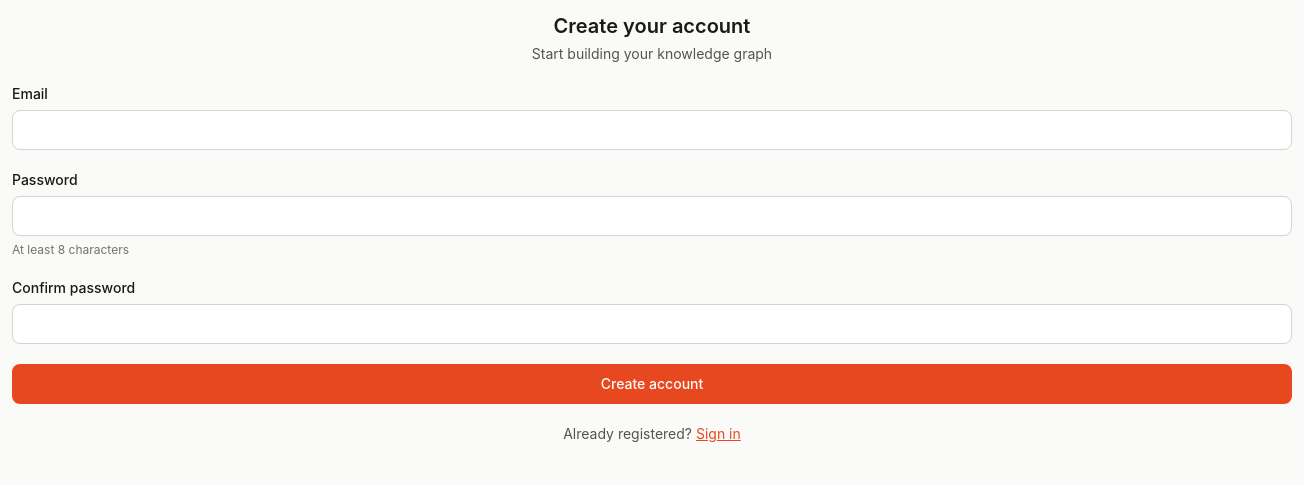
Test: RegisterForm › reports a duplicate email on the email field
Type "new@example.com" into the field labelled "Email" at (652, 130), box [12,110,1292,150]
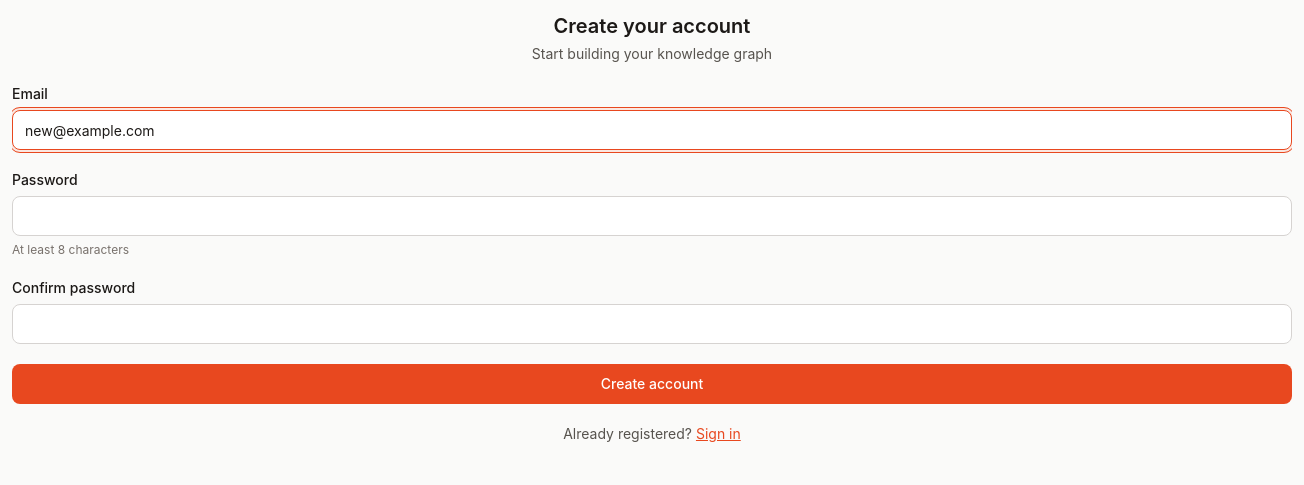
Type "long enough pw" into the password field labelled "Password" at (652, 216), box [12,196,1292,236]
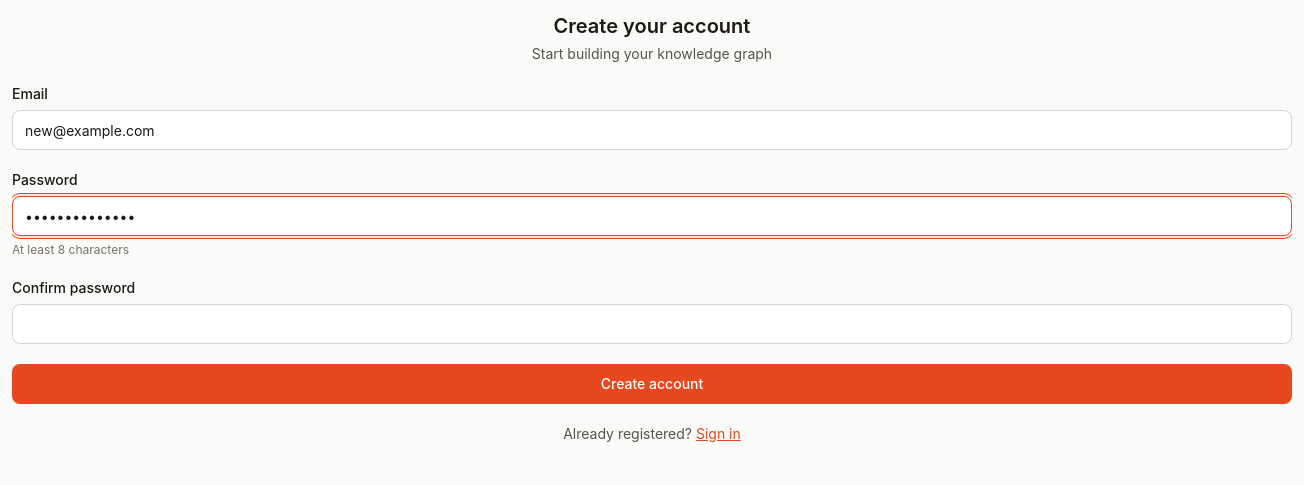
Type "long enough pw" into the password field labelled "Confirm password" at (652, 324), box [12,304,1292,344]
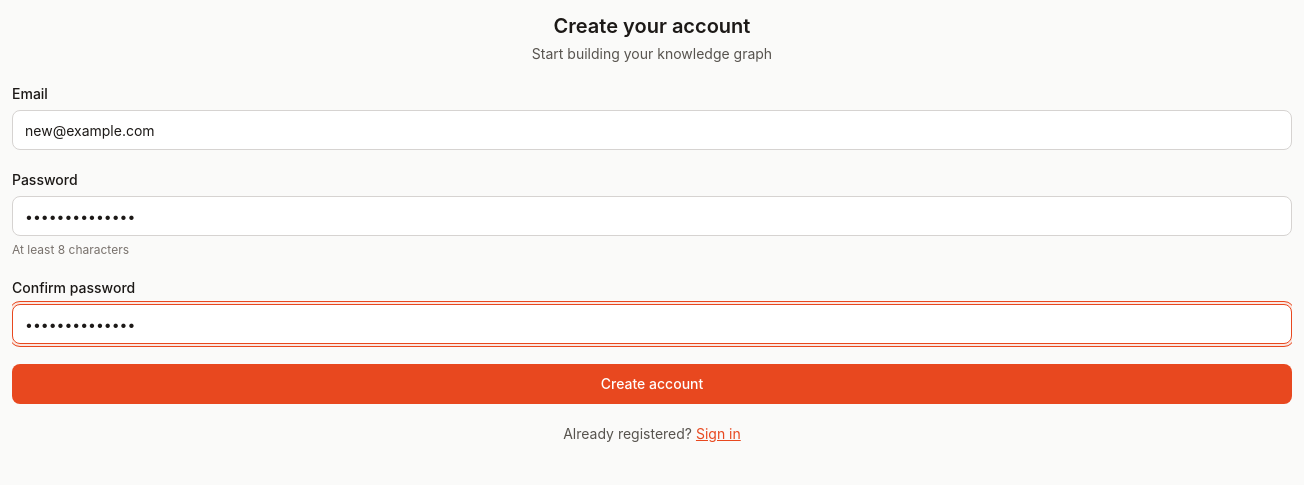
Click the button "Create account" at (652, 384), box [12,364,1292,404]
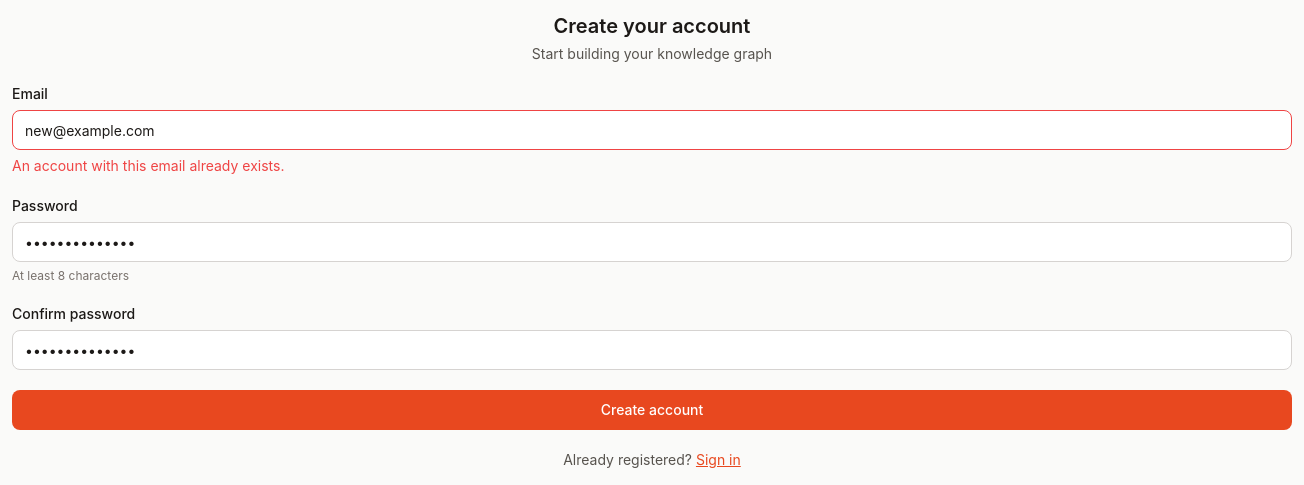
Expected: the text "An account with this email already exists." is shown, [12,157,284,174]
